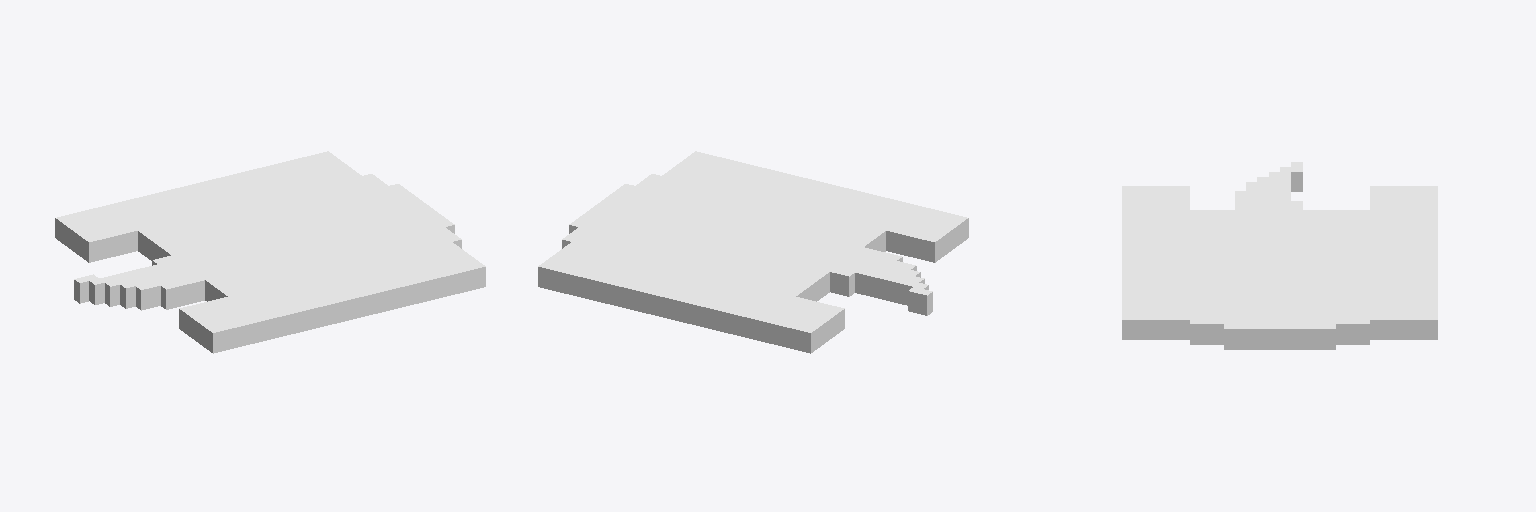
The model's file is bat29.obj.
3 views of the same model, side by side, from view 1: azimuth 30°, elevation 25°; view 2: azimuth 150°, elevation 25°; view 3: azimuth 270°, elevation 25° (orthographic).
Bounding box in the file's own units: 35 × 2 × 28.